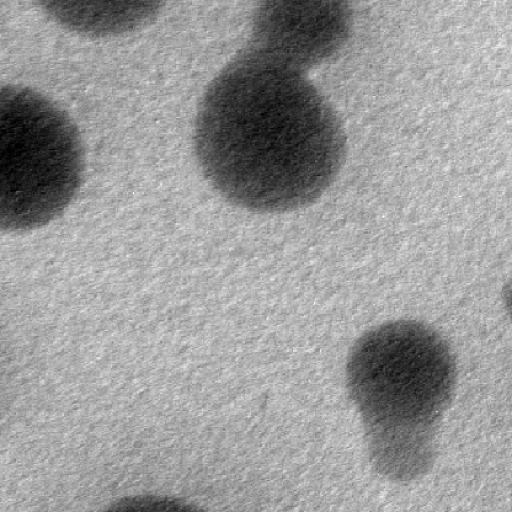Nanoparticles: (192, 75, 346, 213), (0, 84, 86, 232), (348, 318, 458, 426), (251, 0, 357, 67), (368, 416, 443, 481), (40, 0, 168, 38), (244, 20, 316, 78), (101, 492, 204, 512)
